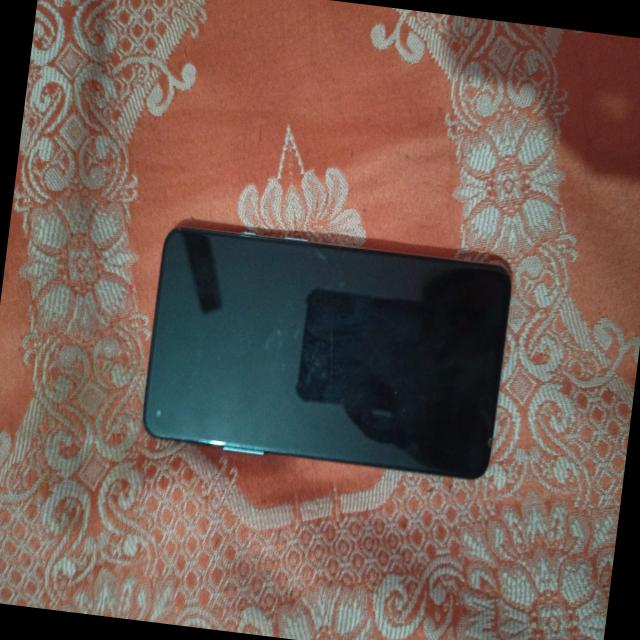mobile_phone: (129, 167, 557, 541)
